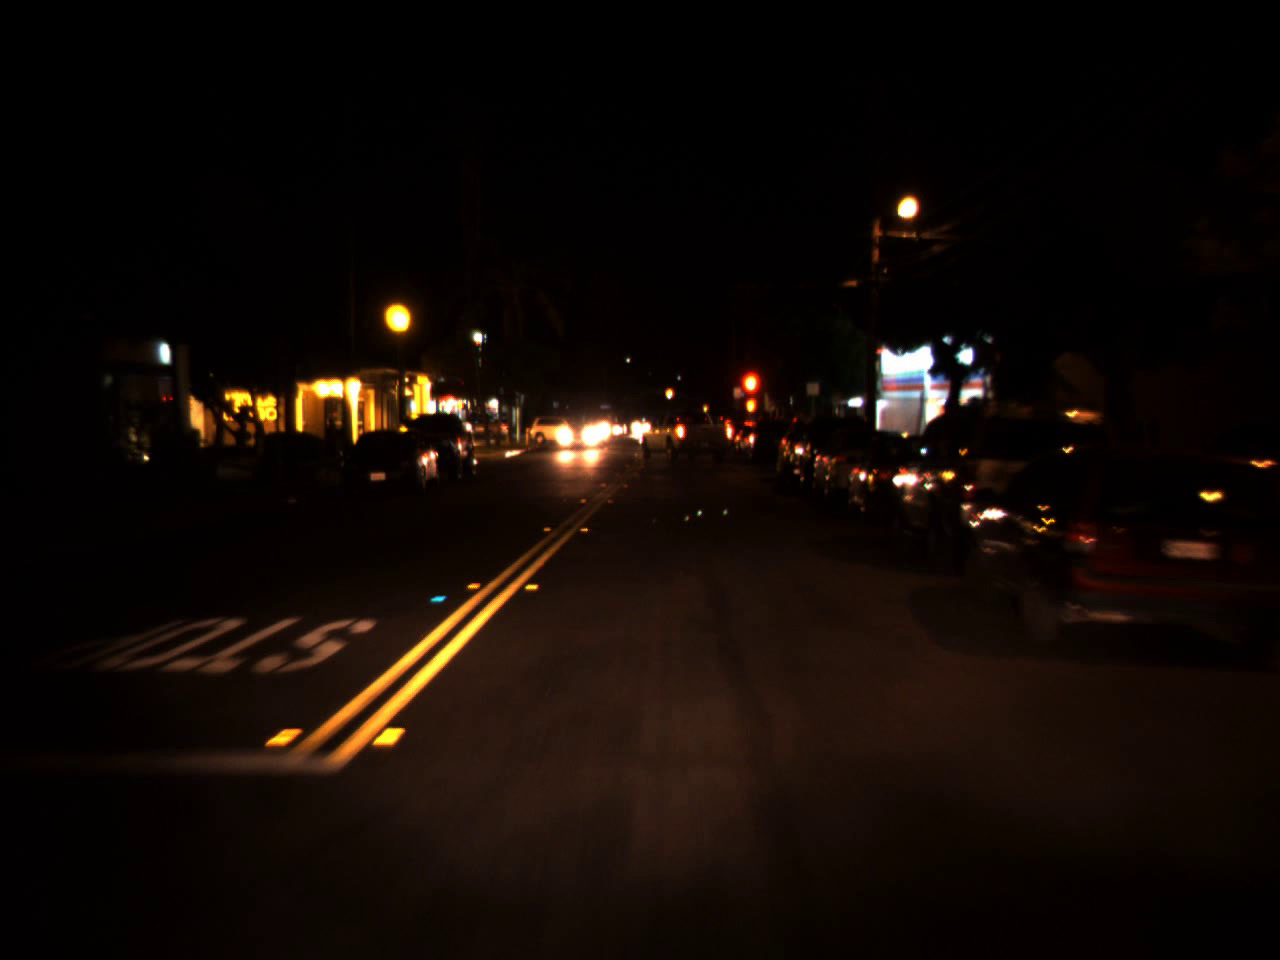stop: (737, 366, 764, 425)
warning: (664, 382, 676, 407), (702, 401, 708, 411)
